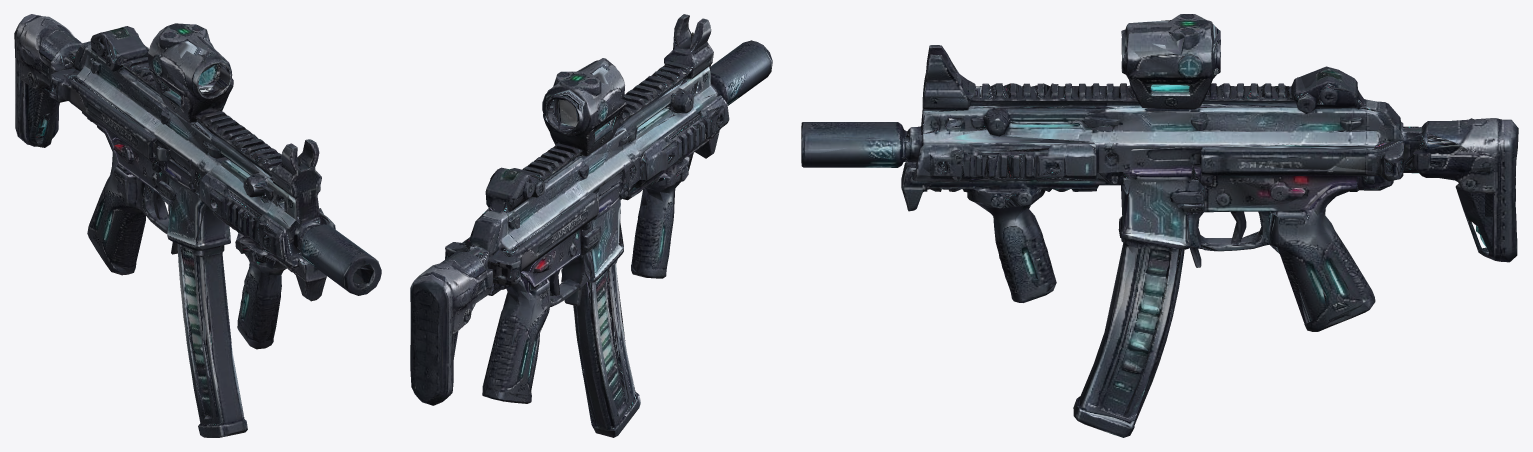
The model's file is neon_flux.glb.
The picture shows the model from 3 angles, left to right: view 1: azimuth 30°, elevation 25°; view 2: azimuth 150°, elevation 25°; view 3: azimuth 270°, elevation 25°; orthographic projection. The views are drawn at different scales.
Parts seen in each view (by area): view 1: mesh_node, mesh_node_lod; view 2: mesh_node, mesh_node_lod; view 3: mesh_node, mesh_node_lod.
Part boxes in pixels (x1,y1,x2,y2): mesh_node: (14,14,381,437); mesh_node_lod: (15,14,375,436); mesh_node: (410,14,772,437); mesh_node_lod: (410,17,750,435); mesh_node: (801,14,1518,437); mesh_node_lod: (802,20,1516,437).
Bounding box in the file's own units: 0.0922 × 0.4539 × 0.72.
Materials: 1 (1 with a texture image).
